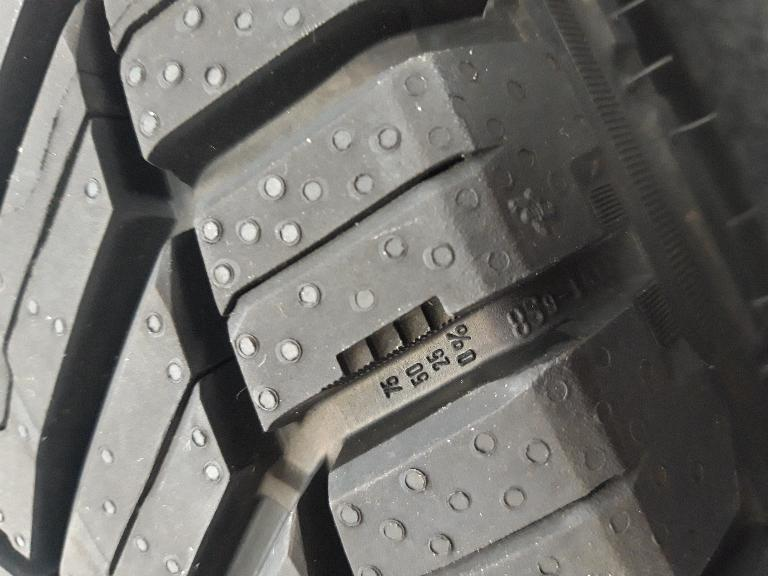temoin:100: (320, 294, 458, 397)
